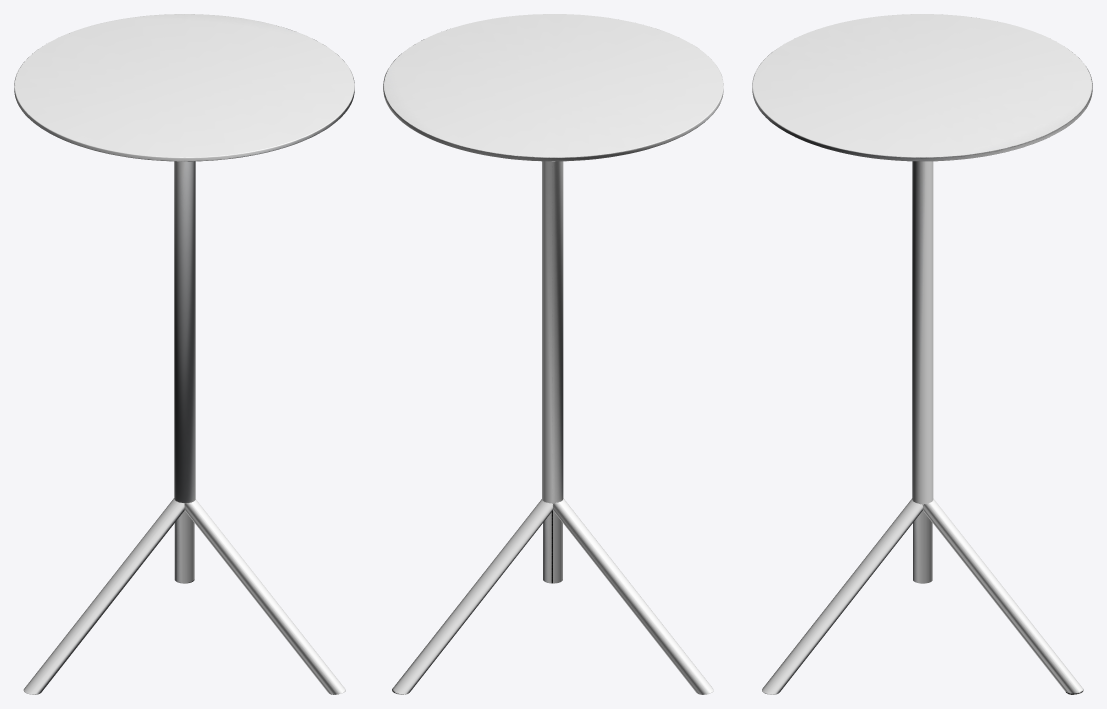
File: miura_table_110_weiss_weiss_60_white_coated_metal.glb
3 views of the same model, side by side, from view 1: azimuth 30°, elevation 25°; view 2: azimuth 150°, elevation 25°; view 3: azimuth 270°, elevation 25° (orthographic).
Visible parts, largest first — view 1: miura_table_110-white; view 2: miura_table_110-white; view 3: miura_table_110-white.
Boxes of the visible parts, x1=… form: miura_table_110-white: x1=14, y1=14, x2=354, y2=694; miura_table_110-white: x1=383, y1=14, x2=723, y2=694; miura_table_110-white: x1=752, y1=14, x2=1092, y2=694.
Bounding box in the file's own units: 0.6245 × 1.11 × 0.6007.
1 material, 1 textured.
